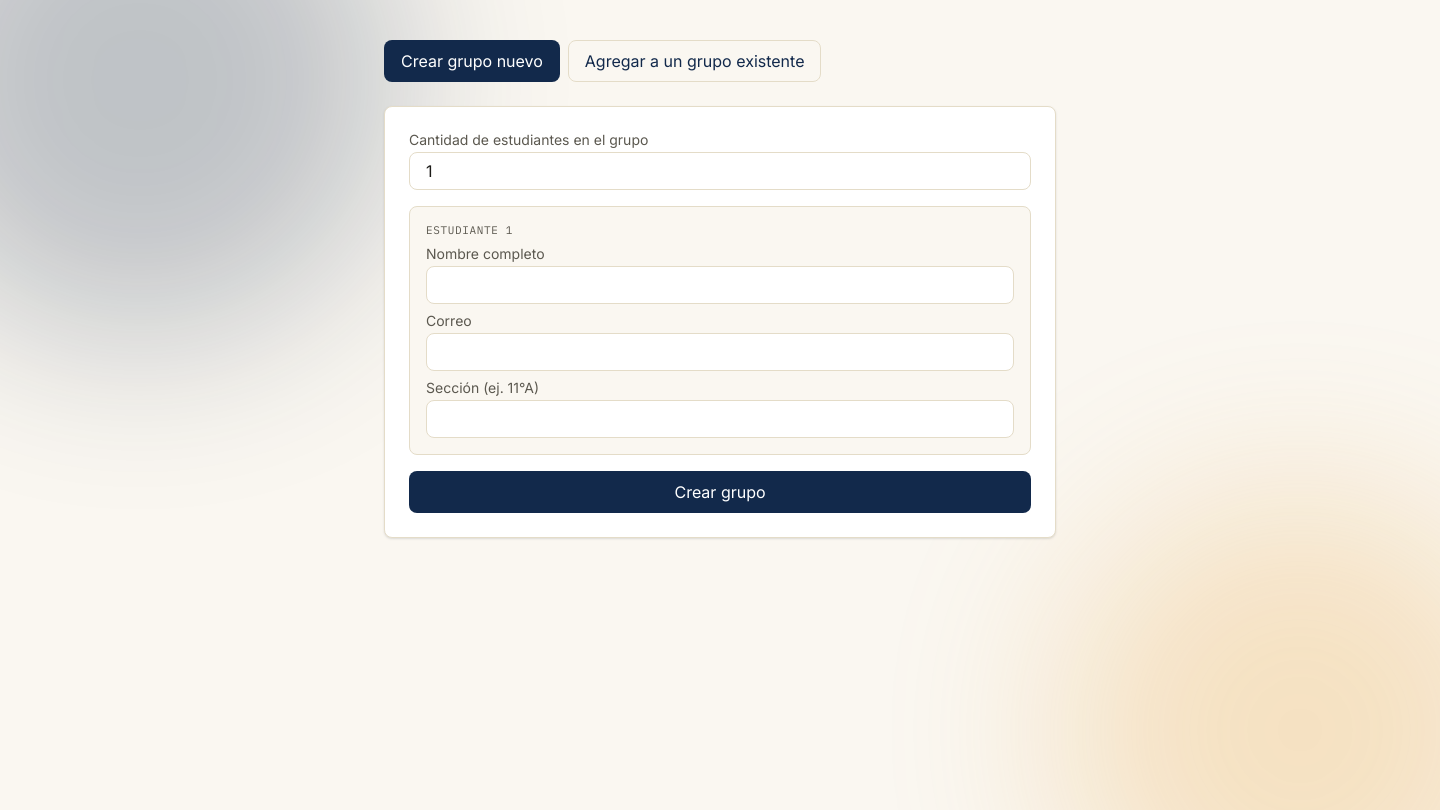
it: AdminStudentsPage — modo "grupo nuevo" › muestra el error del backend si la creación falla
Type "Ana Estudiante" into the field labelled "Nombre completo" at (720, 285), box [426,266,1014,304]
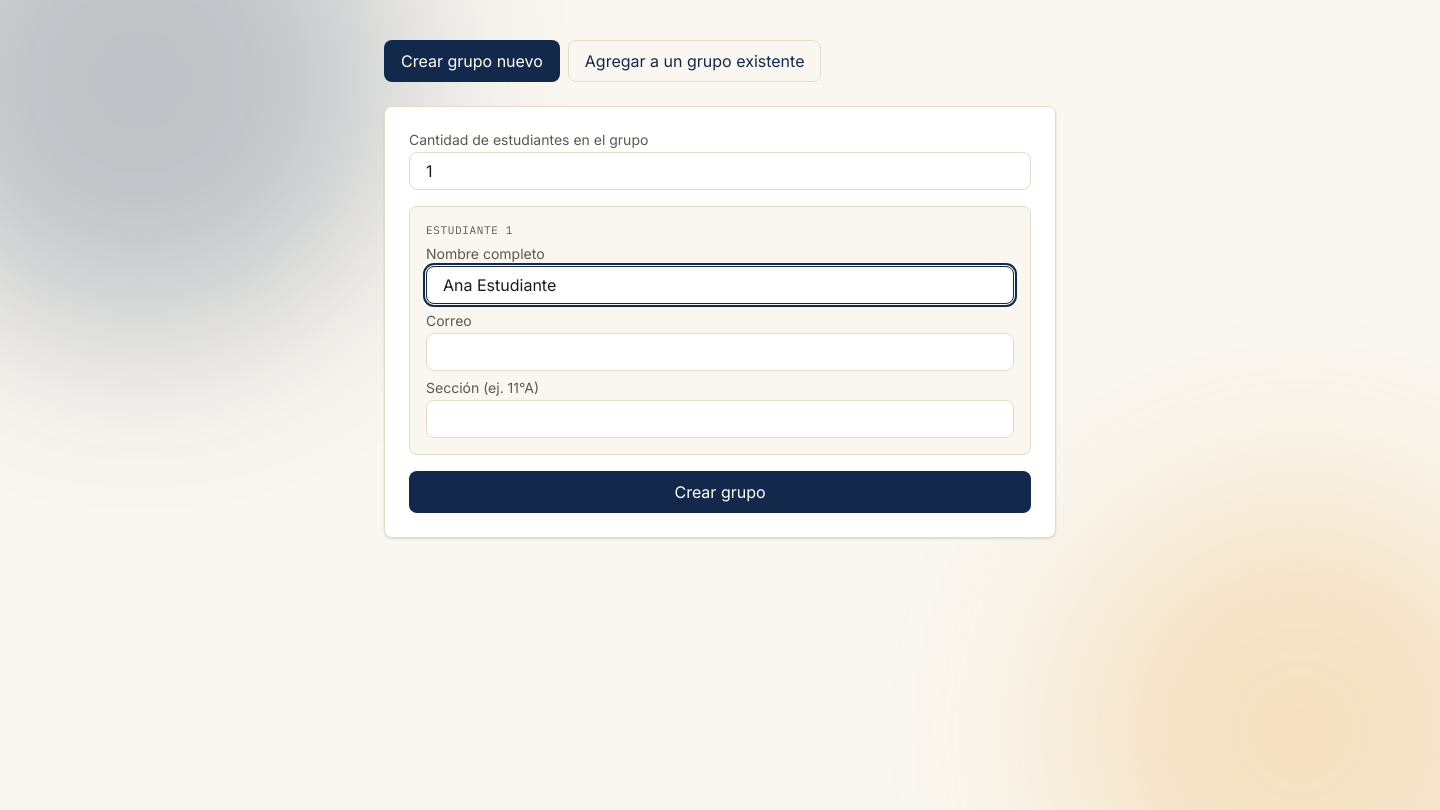
Type "ana@lasalle.edu.co" into the field labelled "Correo" at (720, 352), box [426,333,1014,371]
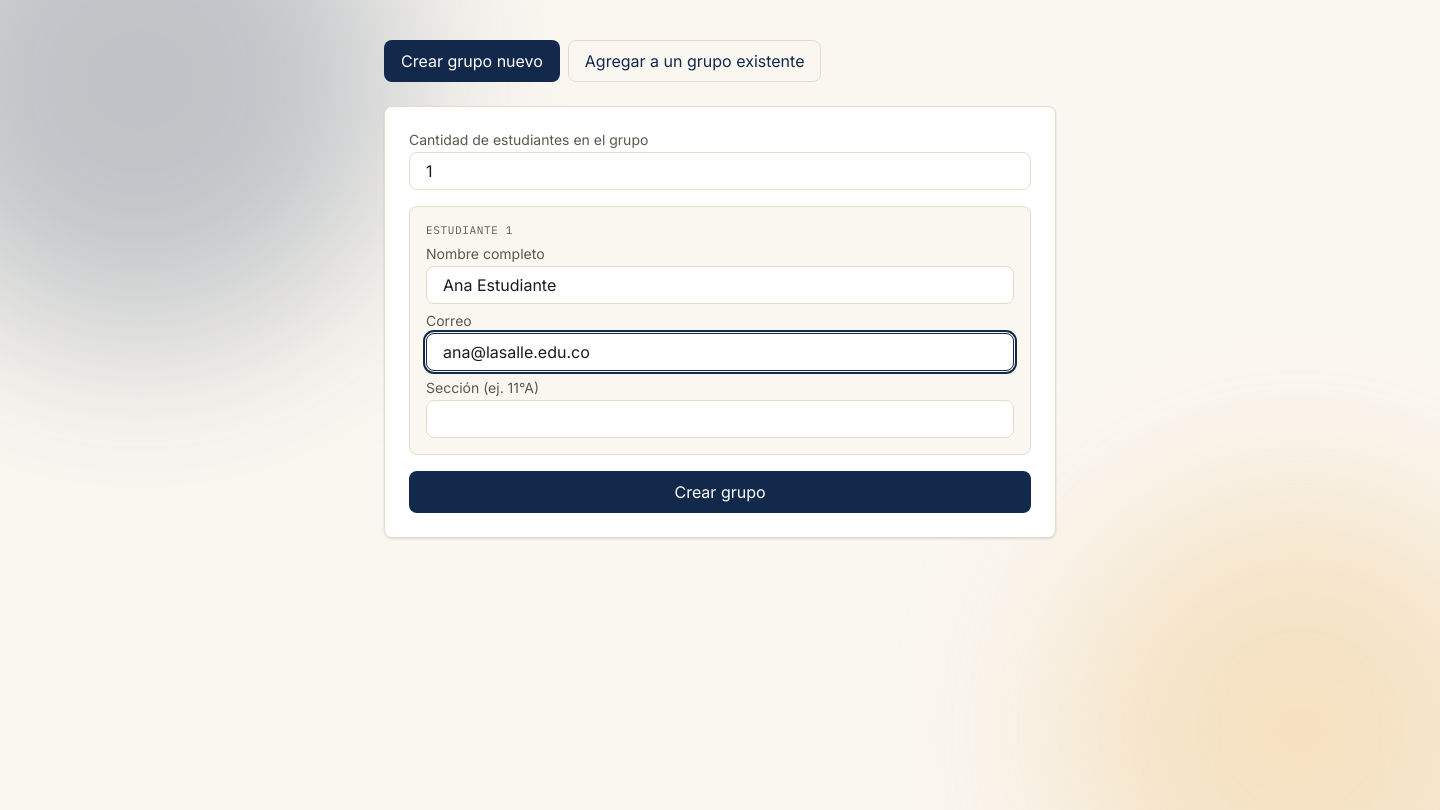
Type "11°A" into the field labelled "Sección (ej. 11°A)" at (720, 419), box [426,400,1014,438]
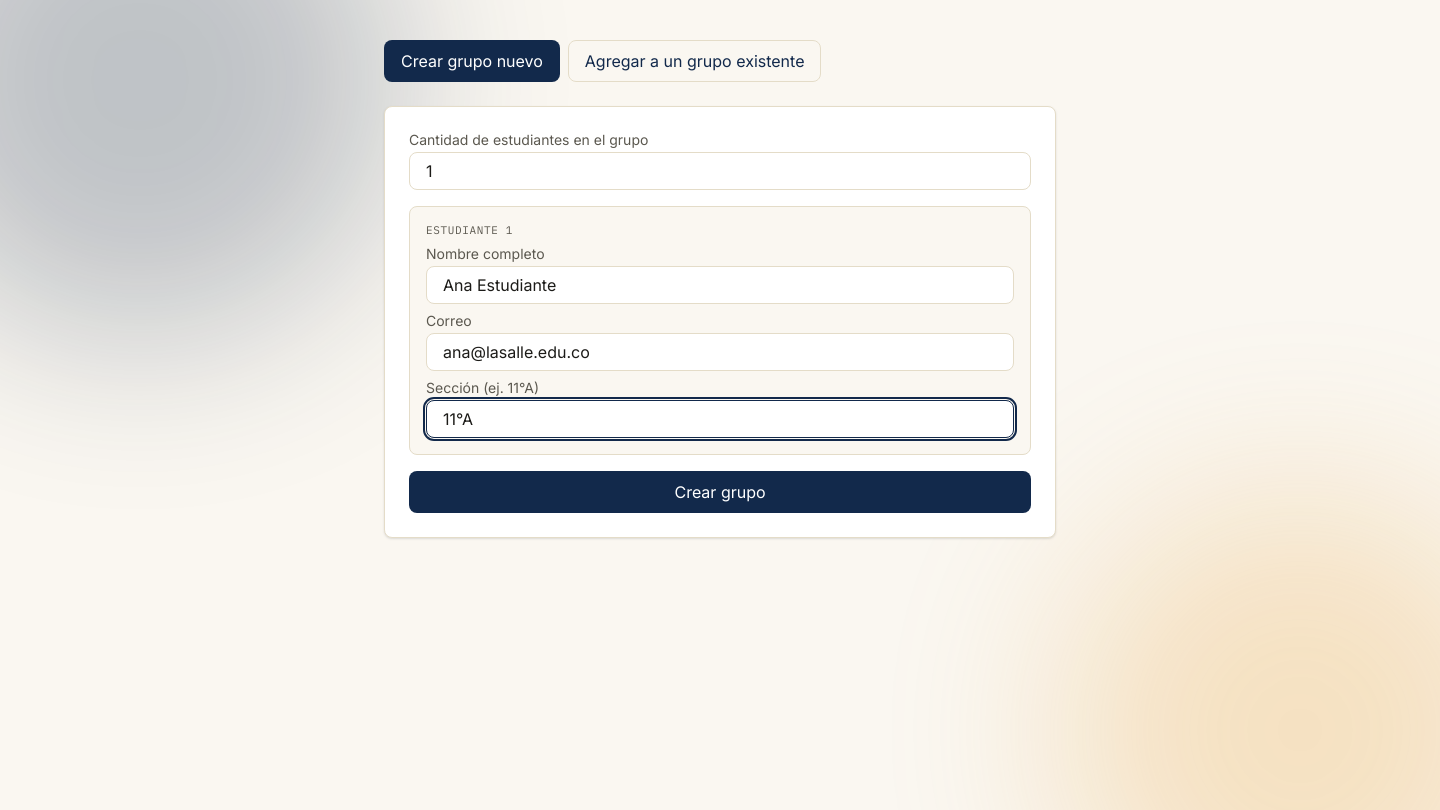
Click the button "Crear grupo" at (720, 492), box [409,471,1031,513]
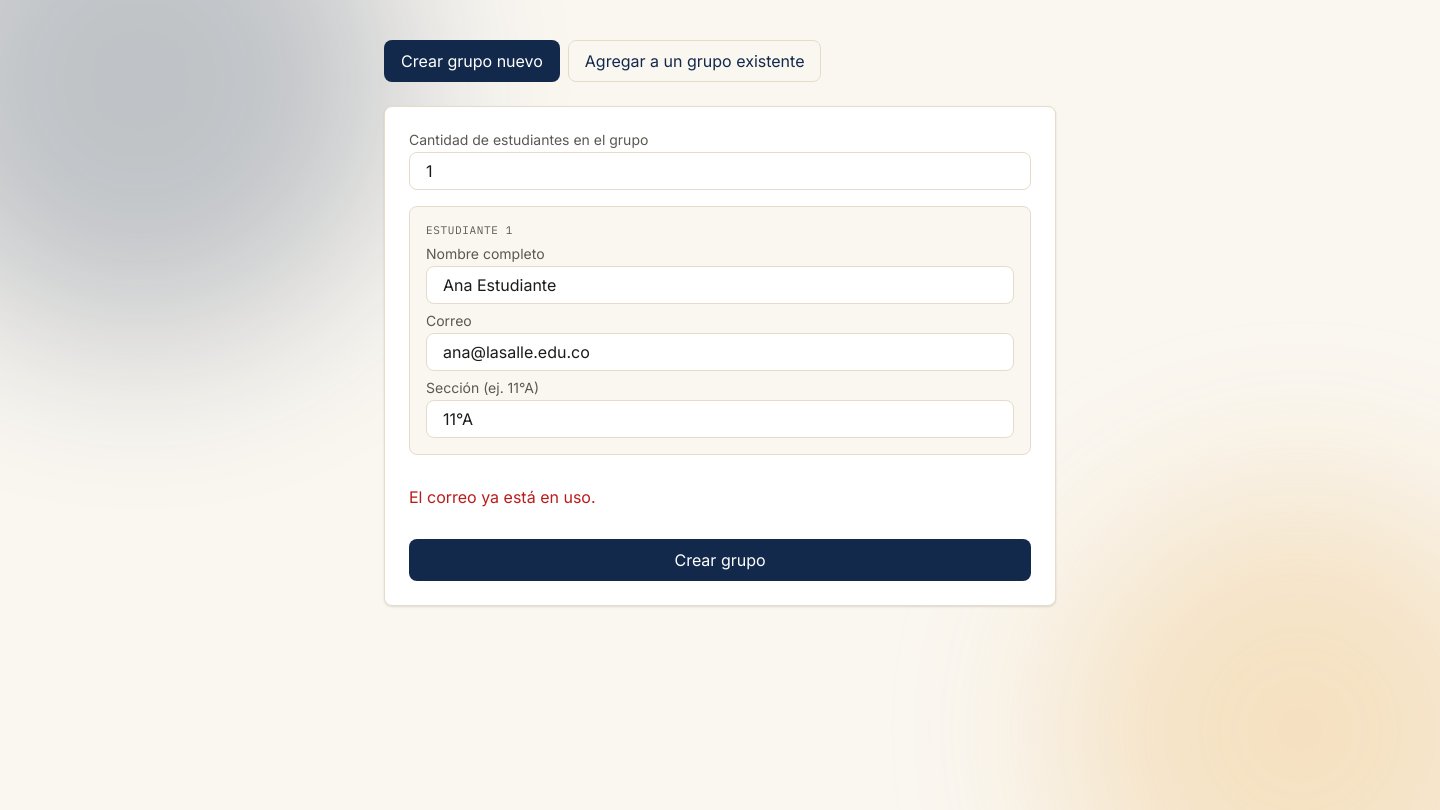
Expected: the text "El correo ya está en uso." is shown, [409,487,596,507]
